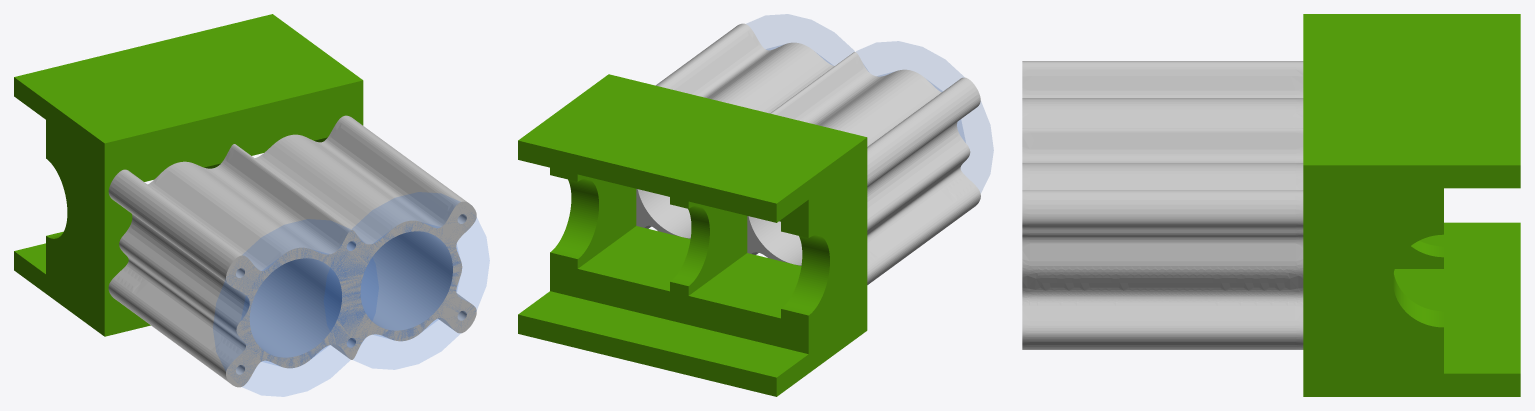
File: Eng.obj
3 renders of one model, left to right at view 1: azimuth 30°, elevation 25°; view 2: azimuth 150°, elevation 25°; view 3: azimuth 270°, elevation 25°, orthographic. The views are drawn at different scales.
Parts seen in each view (by area): view 1: Engine block, Crankcase, Polygon006, Polygon007, Polygon005, Polygon004; view 2: Crankcase, Engine block, Polygon006, Polygon007; view 3: Engine block, Crankcase.
Boxes of the visible parts, left/top/right/bottom form: Engine block: left=108, top=115, right=476, bottom=387; Crankcase: left=14, top=14, right=363, bottom=336; Polygon006: left=213, top=219, right=378, bottom=396; Polygon007: left=325, top=192, right=489, bottom=369; Polygon005: left=361, top=223, right=458, bottom=339; Polygon004: left=241, top=251, right=348, bottom=365; Crankcase: left=518, top=74, right=867, bottom=396; Engine block: left=636, top=23, right=980, bottom=284; Polygon006: left=856, top=41, right=993, bottom=192; Polygon007: left=747, top=14, right=854, bottom=65; Engine block: left=1022, top=61, right=1303, bottom=349; Crankcase: left=1303, top=14, right=1520, bottom=396.
Bounding box in the file's own units: 150 × 100 × 195.
